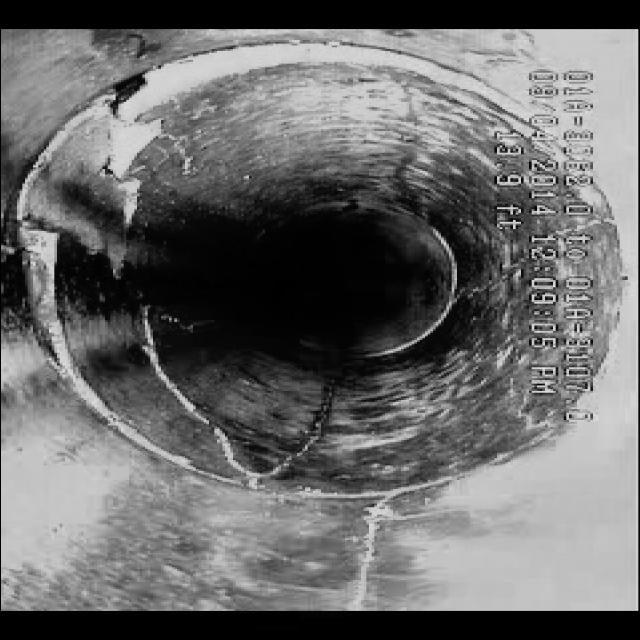Fracture: (59, 75, 236, 256), (124, 306, 258, 484)
